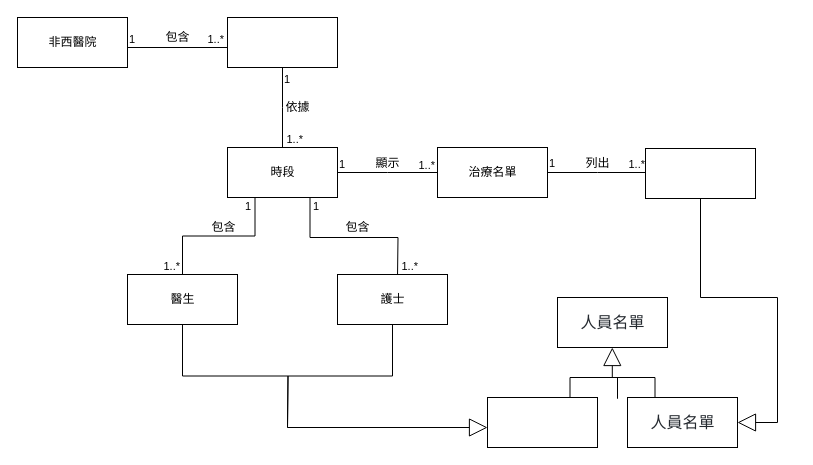
Image size: 813x465. Some labels were removed from this diagram. Here are the shapes that lost their labels. From the top down, the centre of each, then its label:
At [282,42]: "診間".
At [700,173]: "病人".
At [542,422]: "編制人員".
